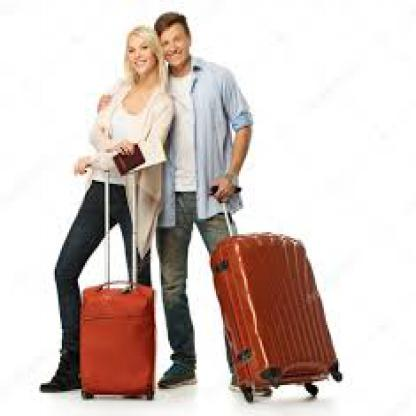maleta: (200, 219, 361, 412), (73, 281, 161, 408)
person: (52, 20, 168, 398), (145, 7, 244, 394)
